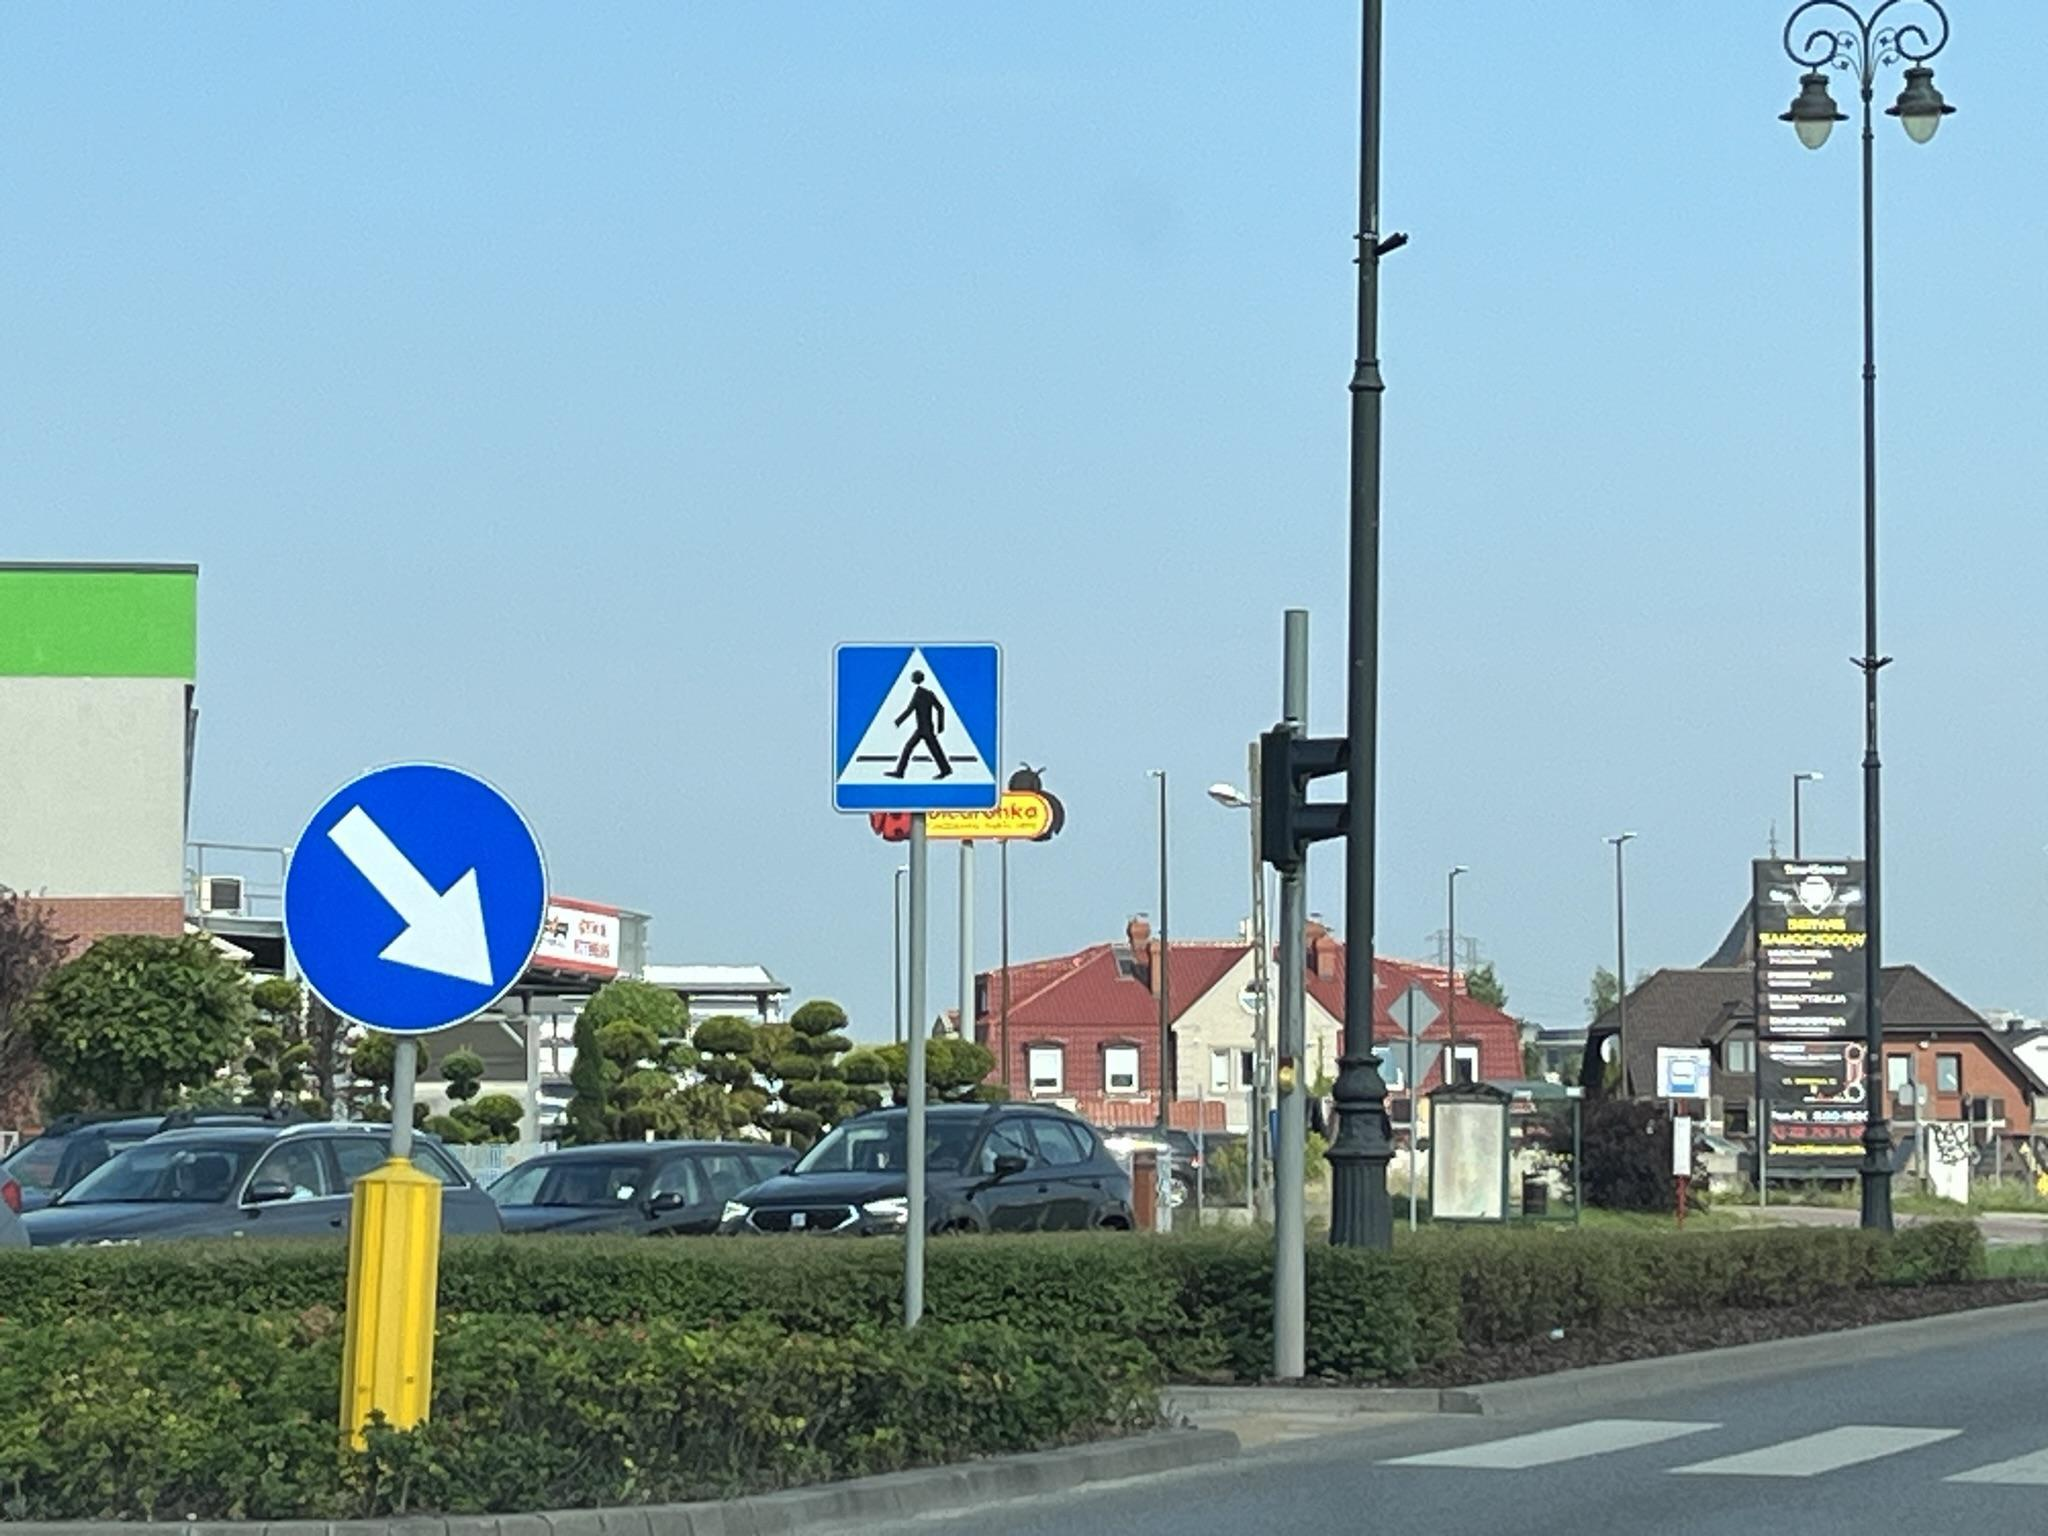information: (832, 641, 1006, 816), (1669, 1060, 1698, 1092)
mandatory: (282, 760, 550, 1042)
